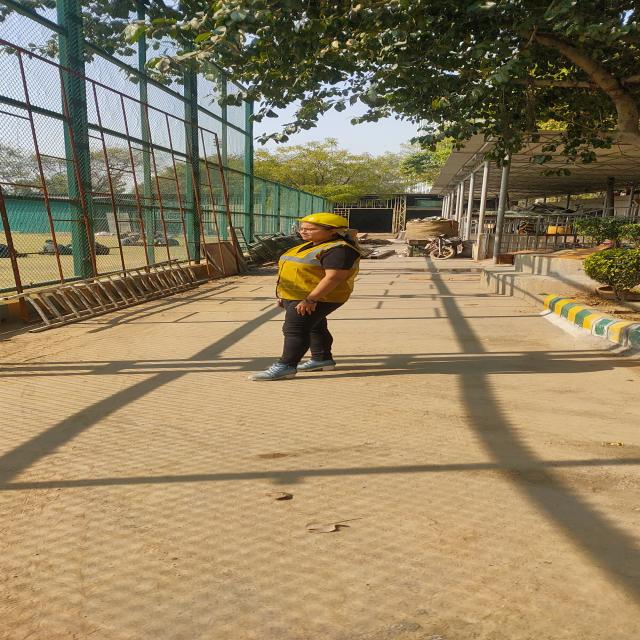safe: (248, 213, 359, 380)
unsafe: (37, 238, 72, 255), (118, 233, 144, 246)
